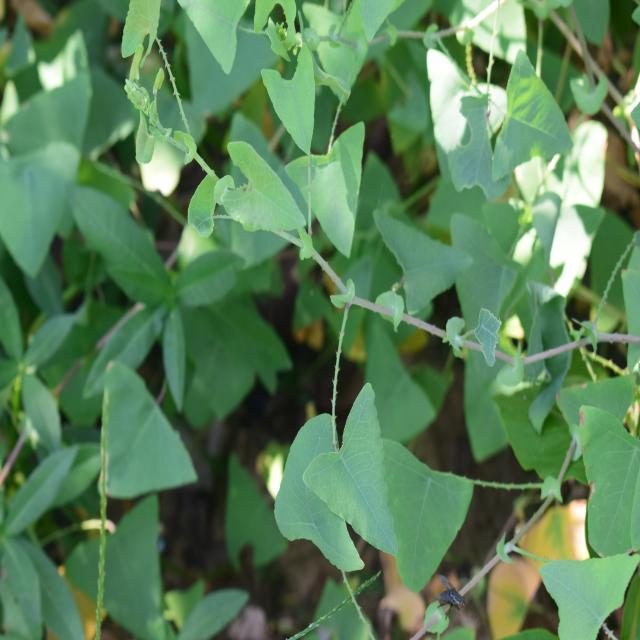Asiatic_Smartweed: (126, 6, 363, 285), (278, 372, 474, 566), (420, 62, 589, 182)
